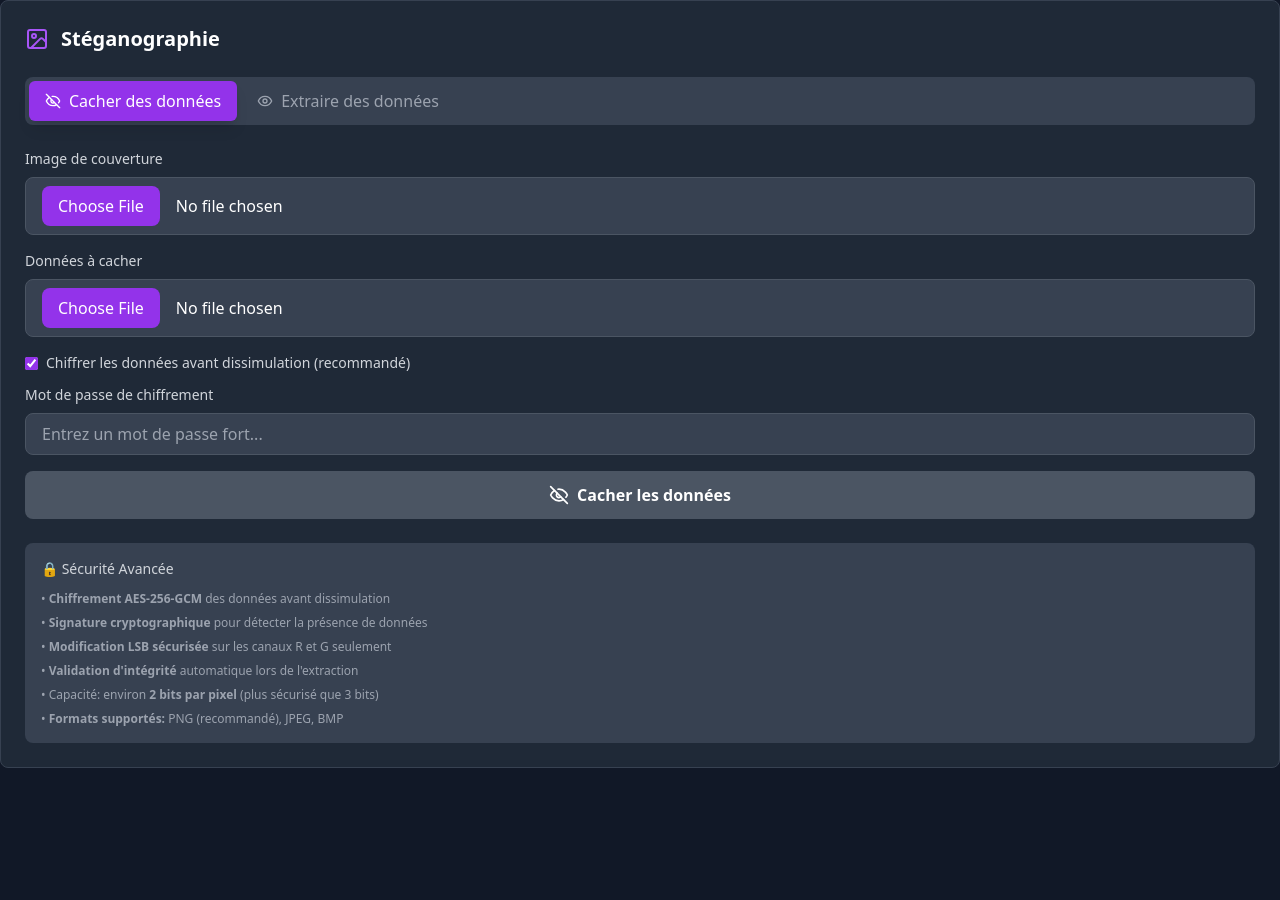
SteganographyComponent › should switch between hide and extract modes
The width and height of the screenshot is (1280, 900).
Click the button "Extraire des données": (348, 101) 241,81 -> 455,121
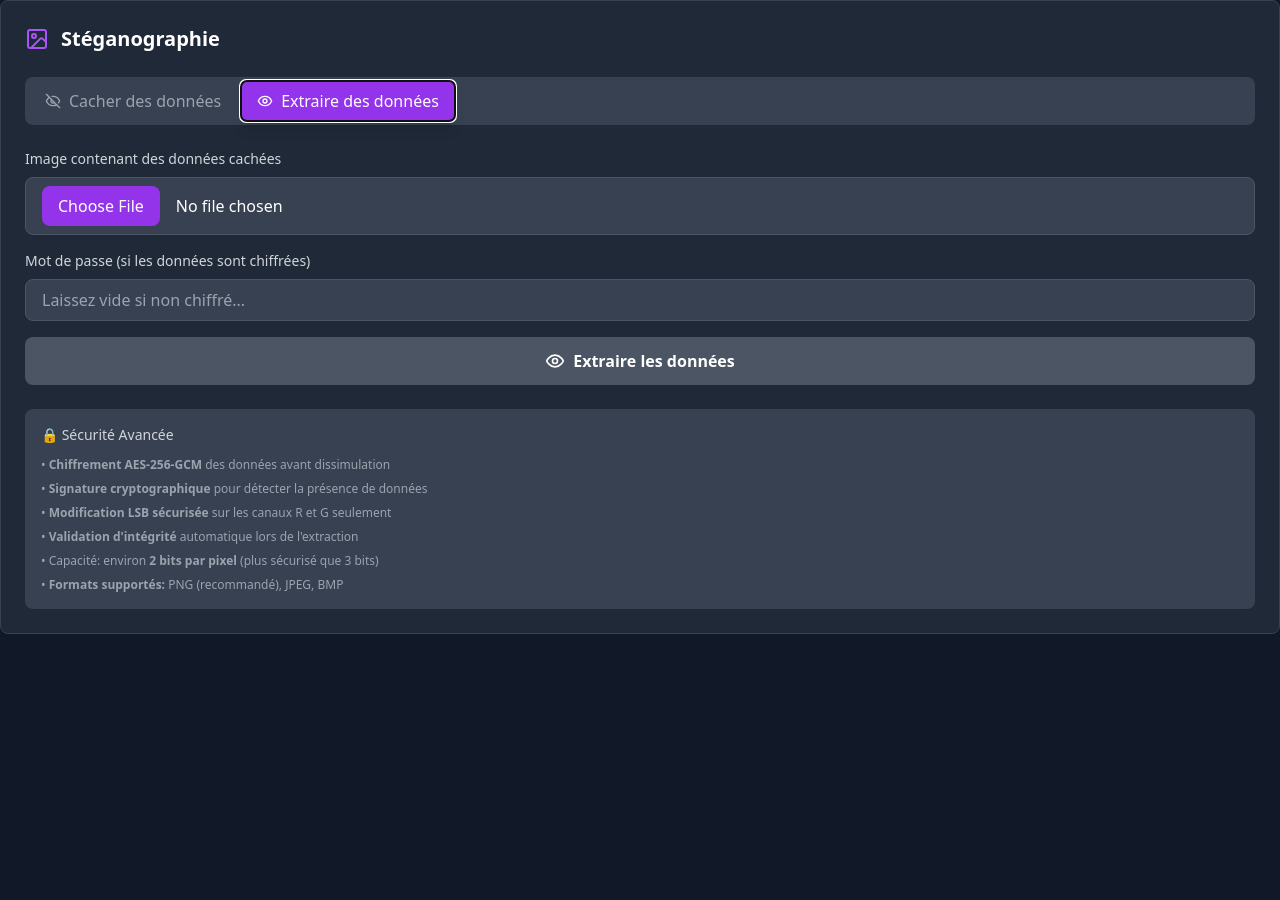
expect the text "Image contenant des données cachées" is shown: met, box 25,149 -> 281,168
